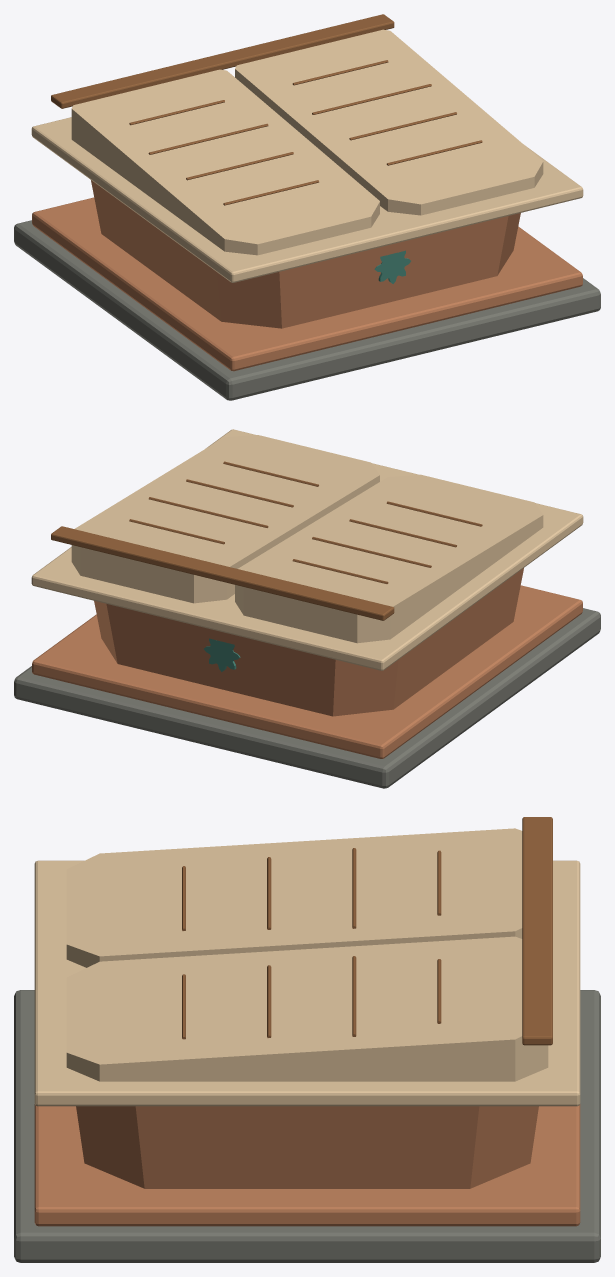
The model's file is cover-stone-lectern.glb.
The picture shows the model from 3 angles, top to bottom: view 1: azimuth 30°, elevation 25°; view 2: azimuth 150°, elevation 25°; view 3: azimuth 270°, elevation 25°; orthographic projection. The views are drawn at different scales.
Parts seen in each view (by area): view 1: Sloped ledger leaf, Sloped ledger leaf.001, Octagonal reading pedestal, Ochre plinth, Square shoe, Desk rim, High reading stop, Reading seal; view 2: Sloped ledger leaf, Sloped ledger leaf.001, Octagonal reading pedestal, Ochre plinth, Square shoe, Desk rim, High reading stop, Reading seal.001; view 3: Sloped ledger leaf.001, Sloped ledger leaf, Octagonal reading pedestal, Square shoe, Ochre plinth, Desk rim, High reading stop.
Boxes of the visible parts, box(x1,y1,x2,y2) form: Sloped ledger leaf: box(71, 69, 379, 255); Sloped ledger leaf.001: box(235, 29, 543, 215); Octagonal reading pedestal: box(91, 180, 520, 328); Ochre plinth: box(32, 197, 582, 371); Square shoe: box(14, 220, 600, 400); Desk rim: box(31, 117, 583, 282); High reading stop: box(51, 14, 394, 108); Reading seal: box(374, 250, 410, 283); Sloped ledger leaf: box(235, 474, 543, 643); Sloped ledger leaf.001: box(71, 435, 379, 603); Octagonal reading pedestal: box(94, 568, 523, 716); Ochre plinth: box(32, 585, 582, 758); Square shoe: box(14, 608, 600, 788); Desk rim: box(31, 429, 583, 670); High reading stop: box(51, 526, 394, 620); Reading seal.001: box(204, 638, 240, 671); Sloped ledger leaf.001: box(66, 936, 548, 1081); Sloped ledger leaf: box(66, 828, 522, 967); Octagonal reading pedestal: box(76, 1106, 538, 1188); Square shoe: box(14, 990, 600, 1262); Ochre plinth: box(34, 1104, 580, 1226); Desk rim: box(34, 860, 580, 1106); High reading stop: box(522, 817, 552, 1045).
Bounding box in the file's own units: 2.6 × 1.05 × 2.6.
